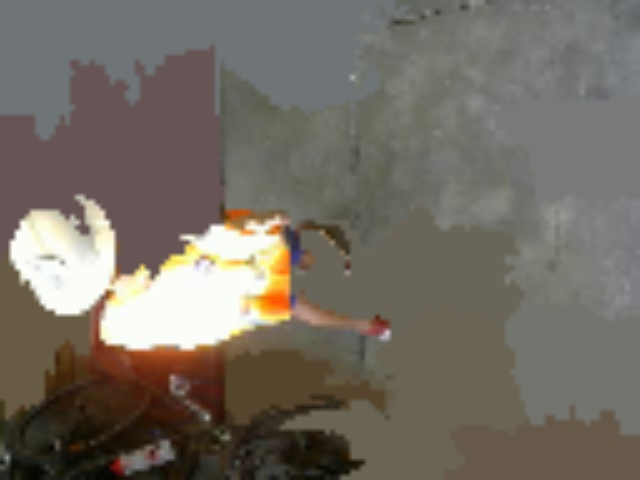two: (21, 255, 67, 291)
